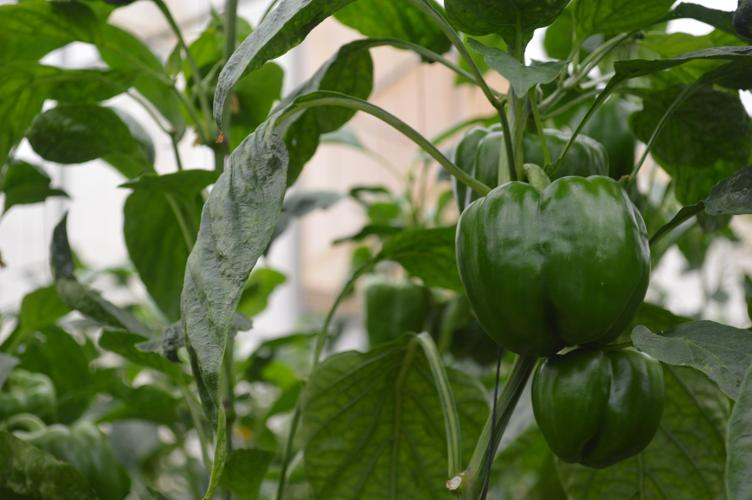BellPepper: (451, 182, 653, 351), (526, 347, 660, 461), (541, 80, 641, 169), (451, 127, 599, 185)
